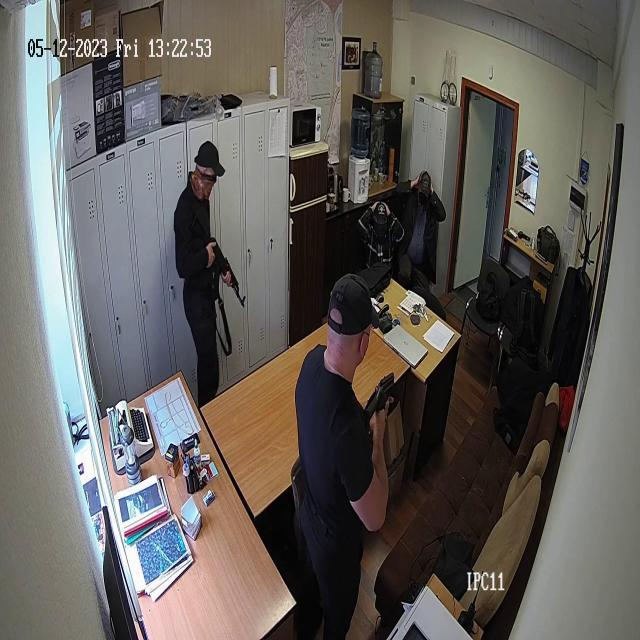pistol: (204, 219, 254, 318), (354, 364, 403, 426)
